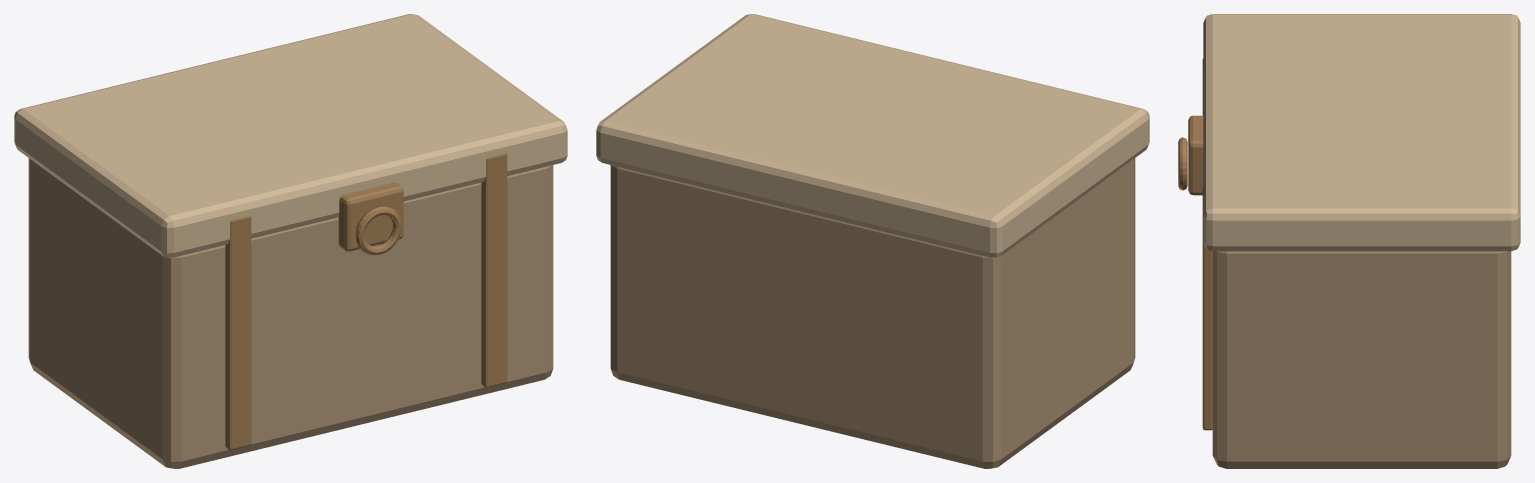
File: survey-chest.glb
3 renders of one model, left to right at view 1: azimuth 30°, elevation 25°; view 2: azimuth 150°, elevation 25°; view 3: azimuth 270°, elevation 25°, orthographic. The views are drawn at different scales.
Visible parts, largest first — view 1: Chest body, Chest lid, Metal strap, Metal strap.001, Decorative latch, Handle; view 2: Chest body, Chest lid; view 3: Chest lid, Chest body, Metal strap.001, Decorative latch, Handle.
Part boxes in pixels (<box>): Chest body: <box>28,158,553,468</box>; Chest lid: <box>14,14,567,257</box>; Metal strap: <box>225,215,251,450</box>; Metal strap.001: <box>481,153,507,387</box>; Decorative latch: <box>338,182,403,251</box>; Handle: <box>355,206,401,255</box>; Chest body: <box>610,158,1135,468</box>; Chest lid: <box>596,14,1149,257</box>; Chest lid: <box>1203,14,1520,251</box>; Chest body: <box>1212,251,1511,468</box>; Metal strap.001: <box>1202,186,1212,430</box>; Decorative latch: <box>1188,115,1203,195</box>; Handle: <box>1178,137,1187,190</box>.
Size of the model in its own units: 1.52 by 0.935 by 1.09.
